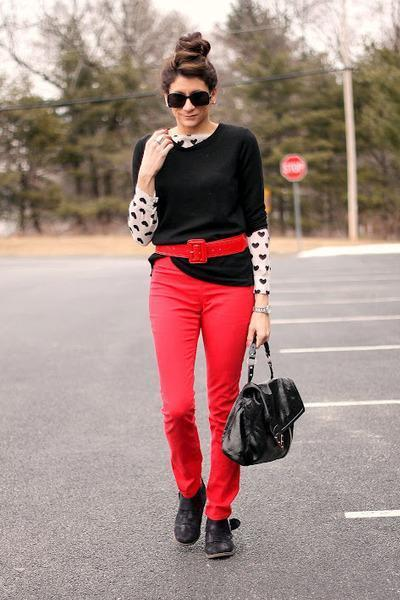bag: (222, 365, 304, 465)
jacket: (125, 123, 280, 292)
pants: (149, 259, 259, 519)
shoe: (174, 480, 240, 558)
sunglass: (163, 84, 216, 108)
